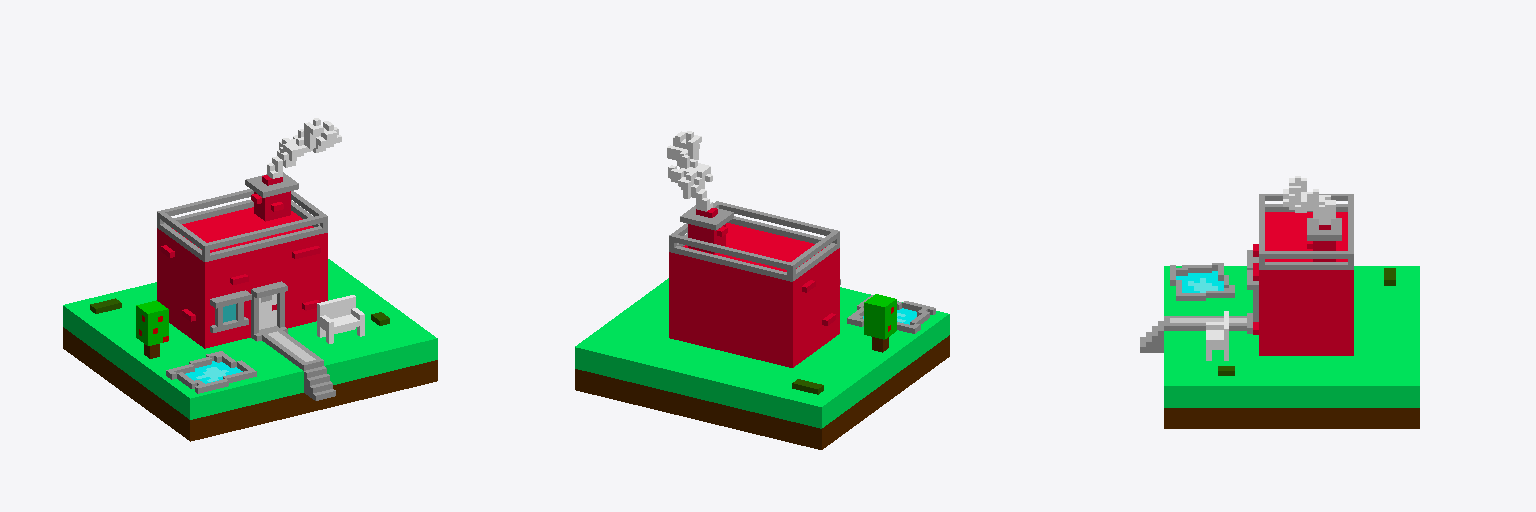
3 views of the same model, side by side, from view 1: azimuth 30°, elevation 25°; view 2: azimuth 150°, elevation 25°; view 3: azimuth 270°, elevation 25° (orthographic).
Visible parts, largest first — view 1: House; view 2: House; view 3: House.
Boxes of the visible parts, box(x1,y1,x2,y2) form: House: box(63, 118, 437, 441); House: box(575, 131, 949, 449); House: box(1140, 176, 1419, 428).
Bounding box in the file's own units: 48 × 42 × 47.
1 materials, 1 textured.